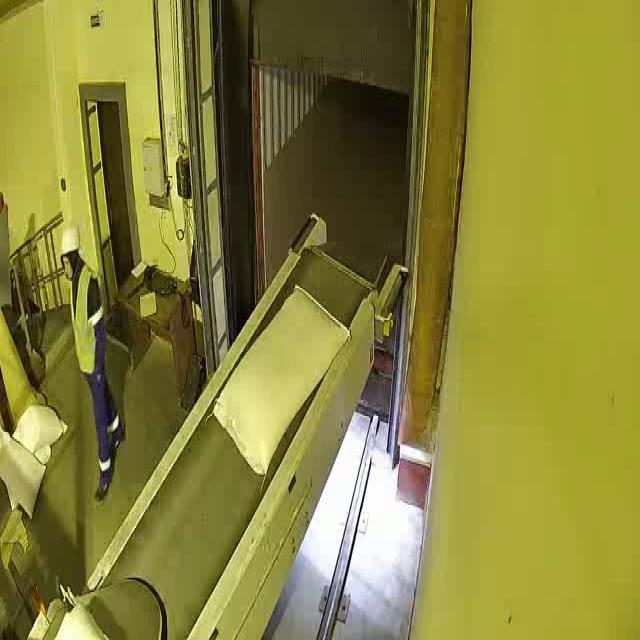bag: (210, 288, 342, 475), (49, 604, 111, 640)
